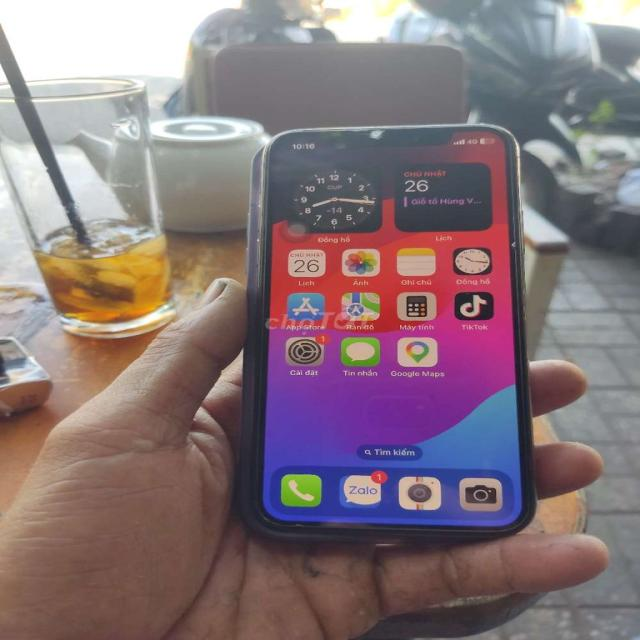physical_damage: (284, 517, 310, 533)
scratch: (260, 510, 278, 530)
